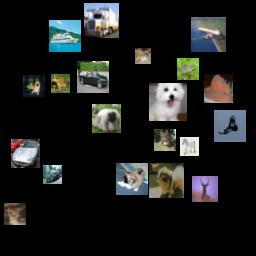airplane: (191, 17, 226, 52)
automobile: (77, 61, 109, 93), (11, 139, 40, 168), (43, 165, 62, 184)
bird: (214, 110, 246, 142)
cat: (204, 74, 233, 103), (154, 129, 176, 151)
deer: (192, 176, 218, 202), (4, 203, 26, 225)
dog: (149, 83, 187, 121), (149, 163, 184, 198), (116, 163, 148, 195), (92, 104, 121, 133), (23, 75, 45, 97), (135, 48, 151, 64)
frog: (177, 58, 199, 80), (51, 74, 70, 93)
ship: (49, 20, 81, 52)
truck: (84, 3, 119, 38)
